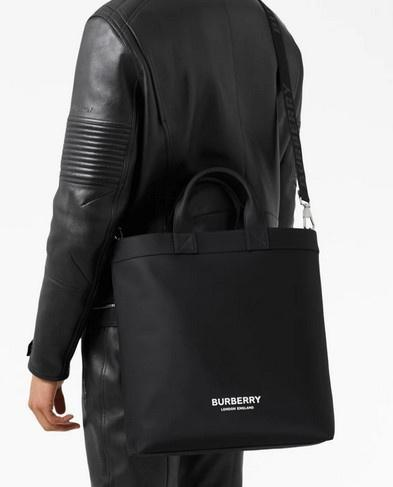BURBERRY: (212, 396, 261, 406)
